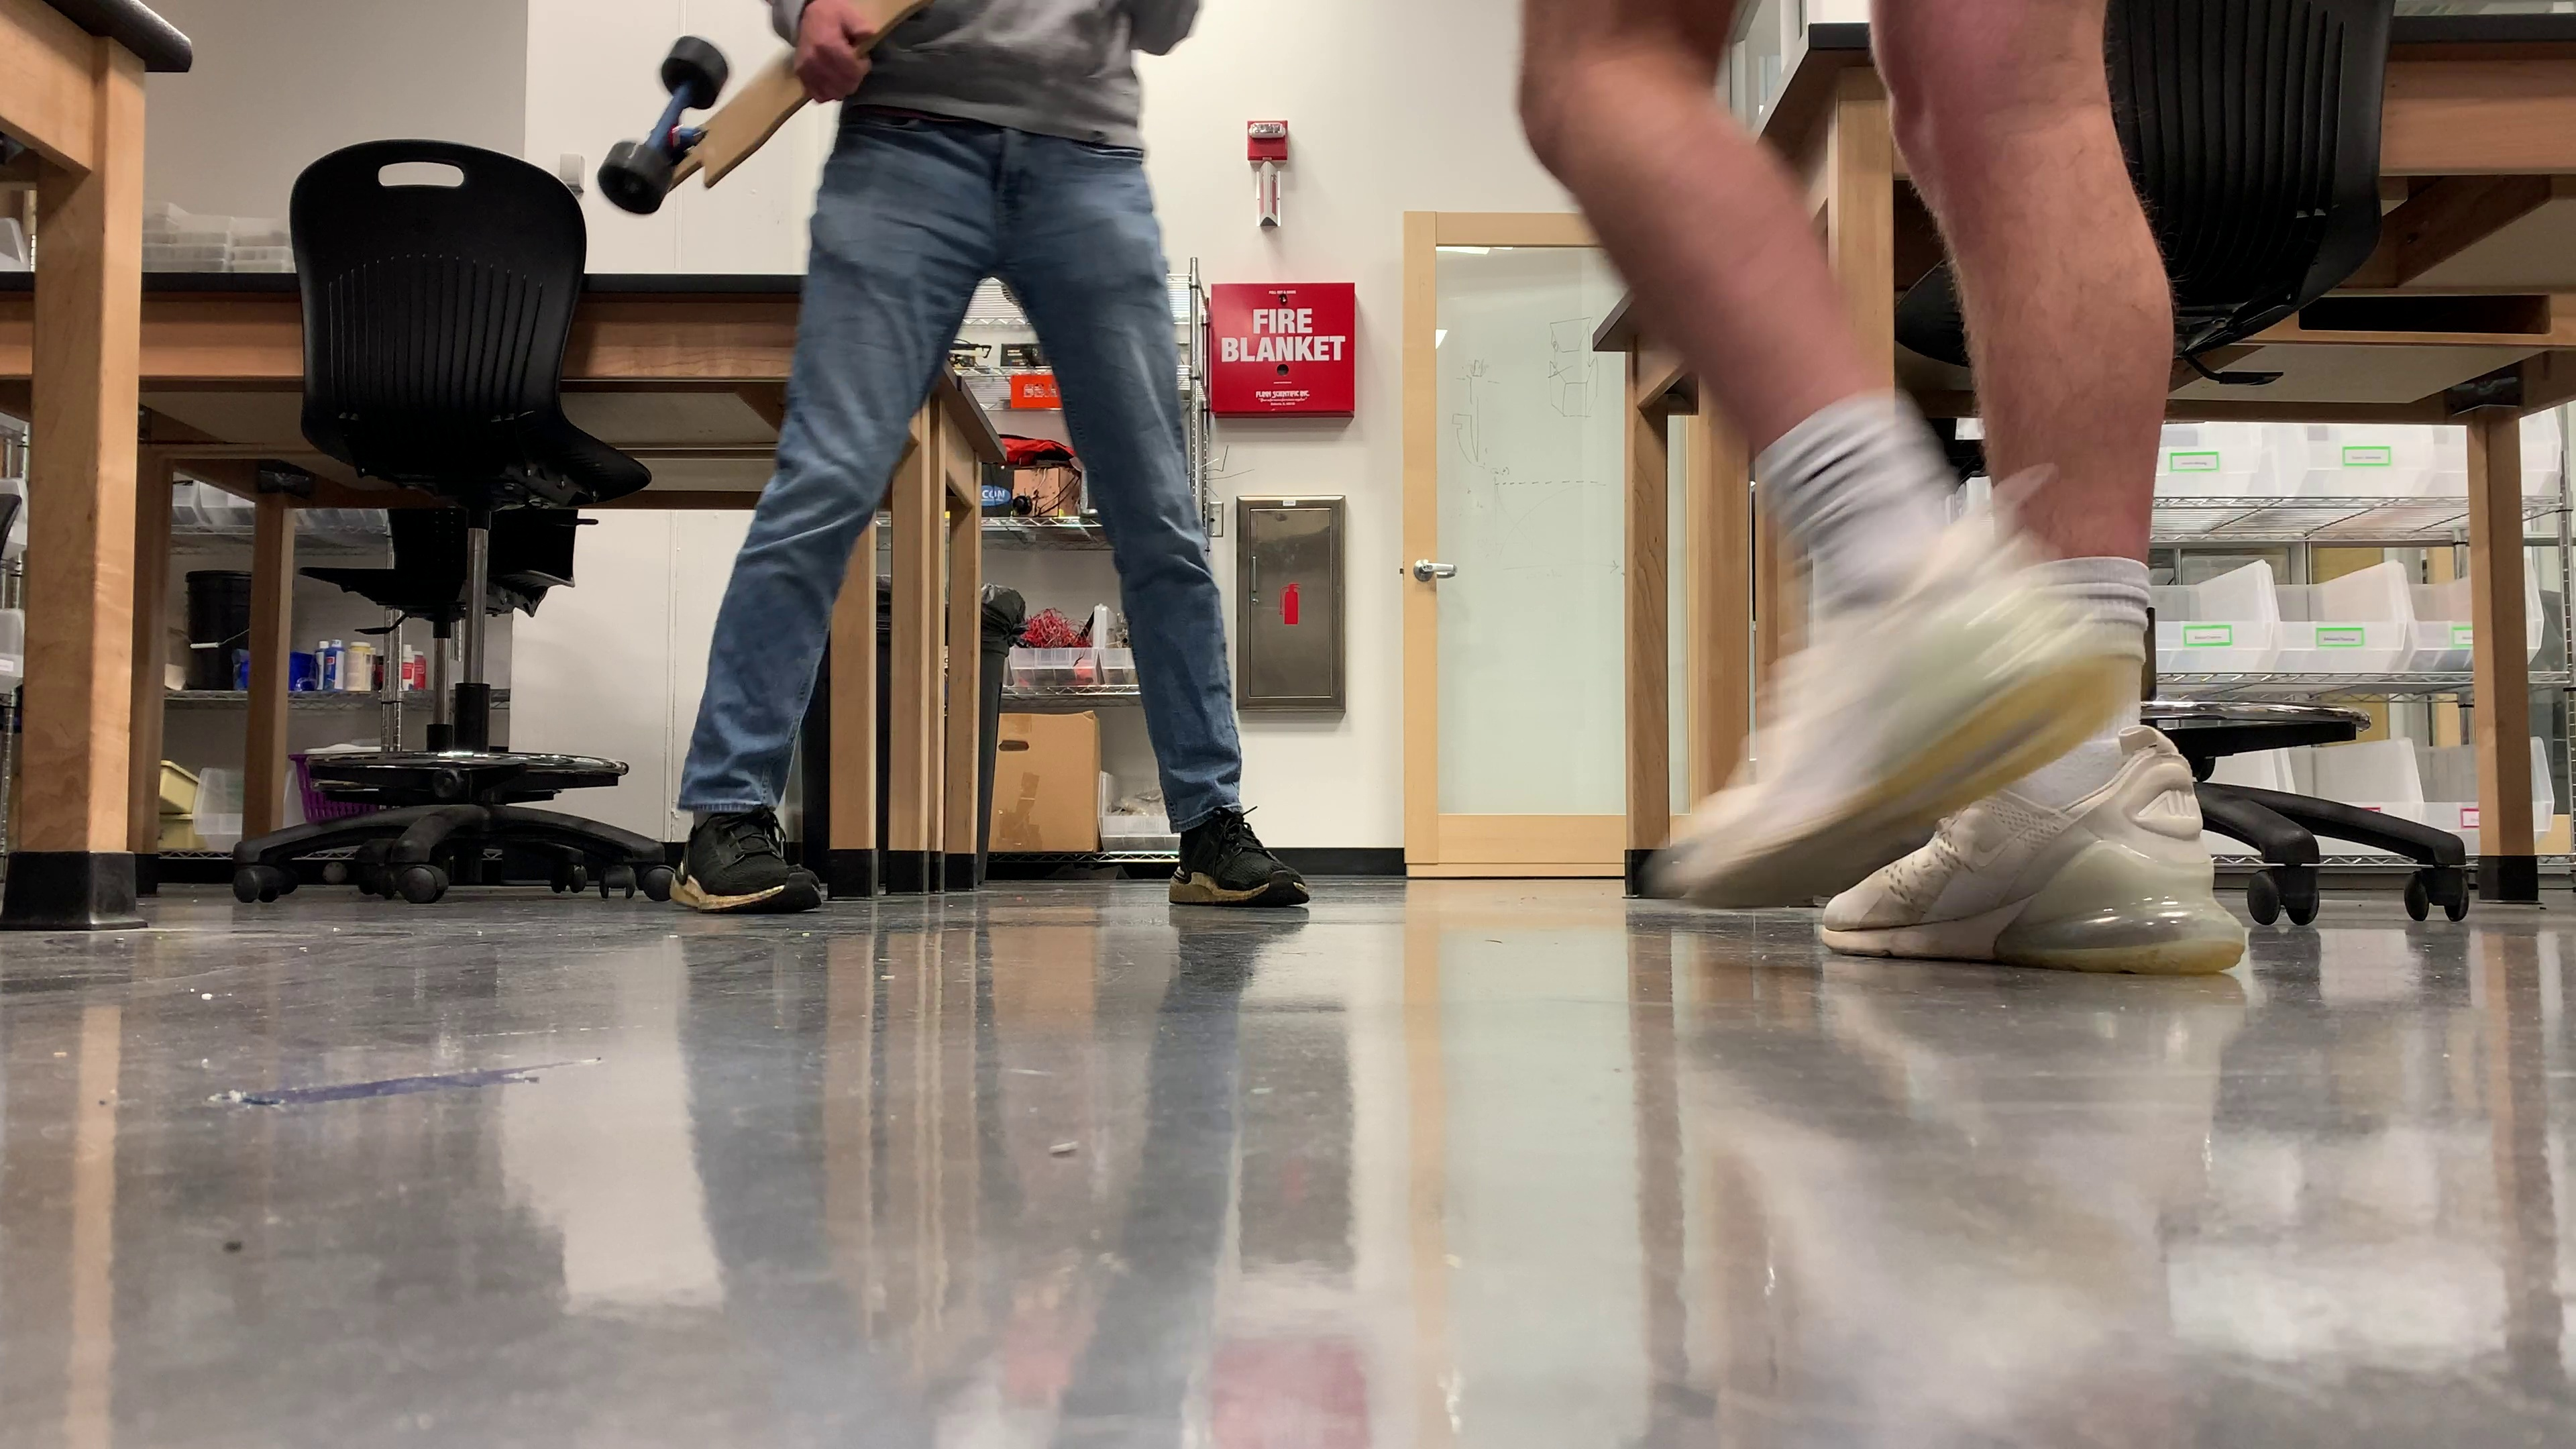shoe: (1817, 750, 2247, 973), (667, 810, 821, 913), (1169, 810, 1311, 908)
